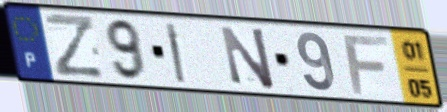9: (103, 17, 149, 83), (293, 30, 337, 93)
F: (340, 33, 391, 96)
I: (163, 20, 188, 85)
N: (217, 24, 278, 92)
Z: (42, 11, 107, 80)
